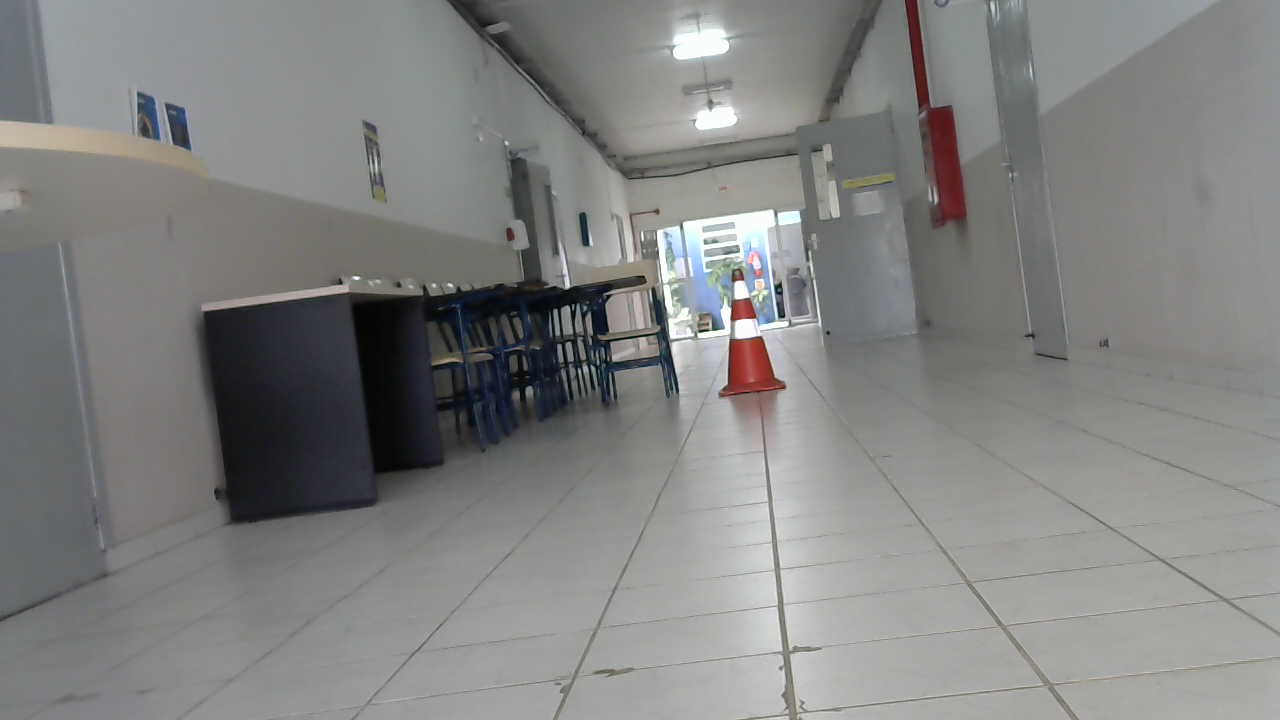cone: (721, 269, 784, 395)
